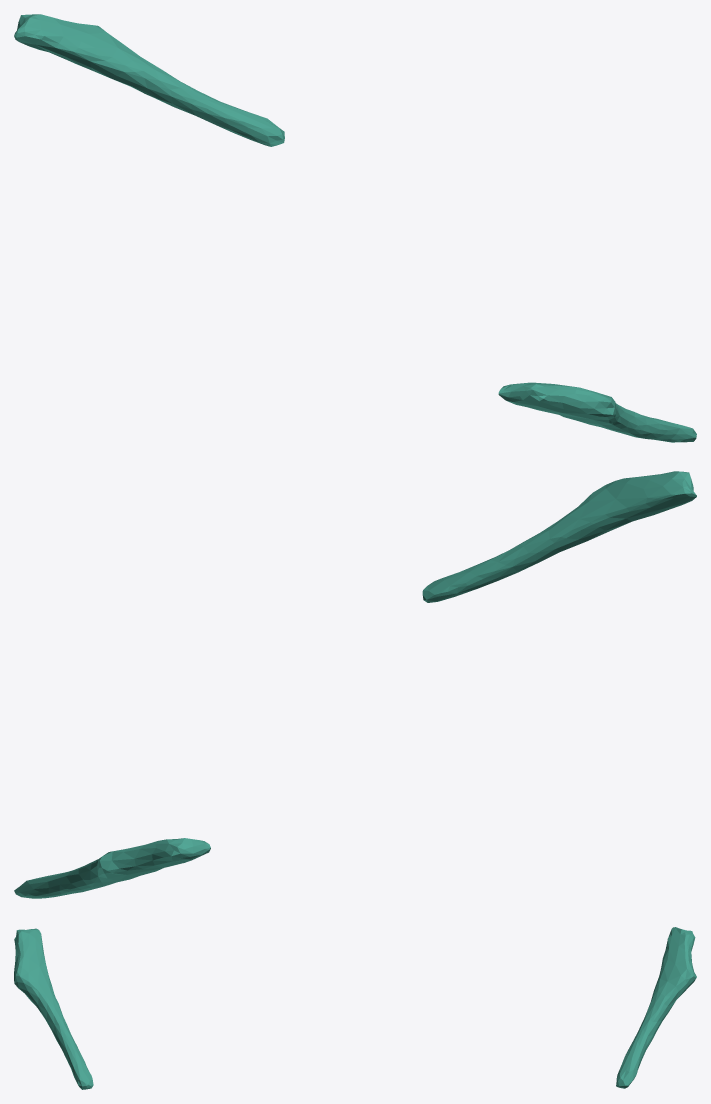
3 views of the same model, one above another, from view 1: azimuth 30°, elevation 25°; view 2: azimuth 150°, elevation 25°; view 3: azimuth 270°, elevation 25° (orthographic). The views are drawn at different scales.
Visible parts, largest first — view 1: 182305701.obj; view 2: 182305701.obj; view 3: 182305701.obj.
Boxes of the visible parts, x1,y1,x2,y2 form: 182305701.obj: (14,14,696,442); 182305701.obj: (14,471,696,898); 182305701.obj: (14,927,696,1089).
Bounding box in the file's own units: 1644 × 955 × 6276.
